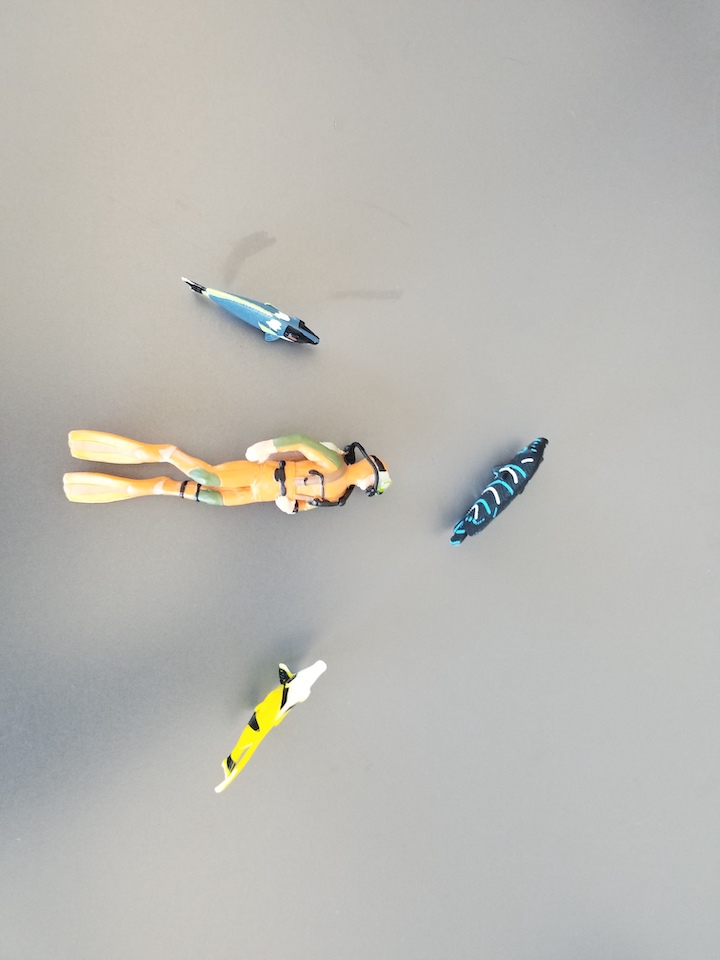danger: (215, 658, 333, 792)
diver: (62, 423, 396, 517)
fish: (447, 435, 552, 548), (177, 274, 321, 353)
